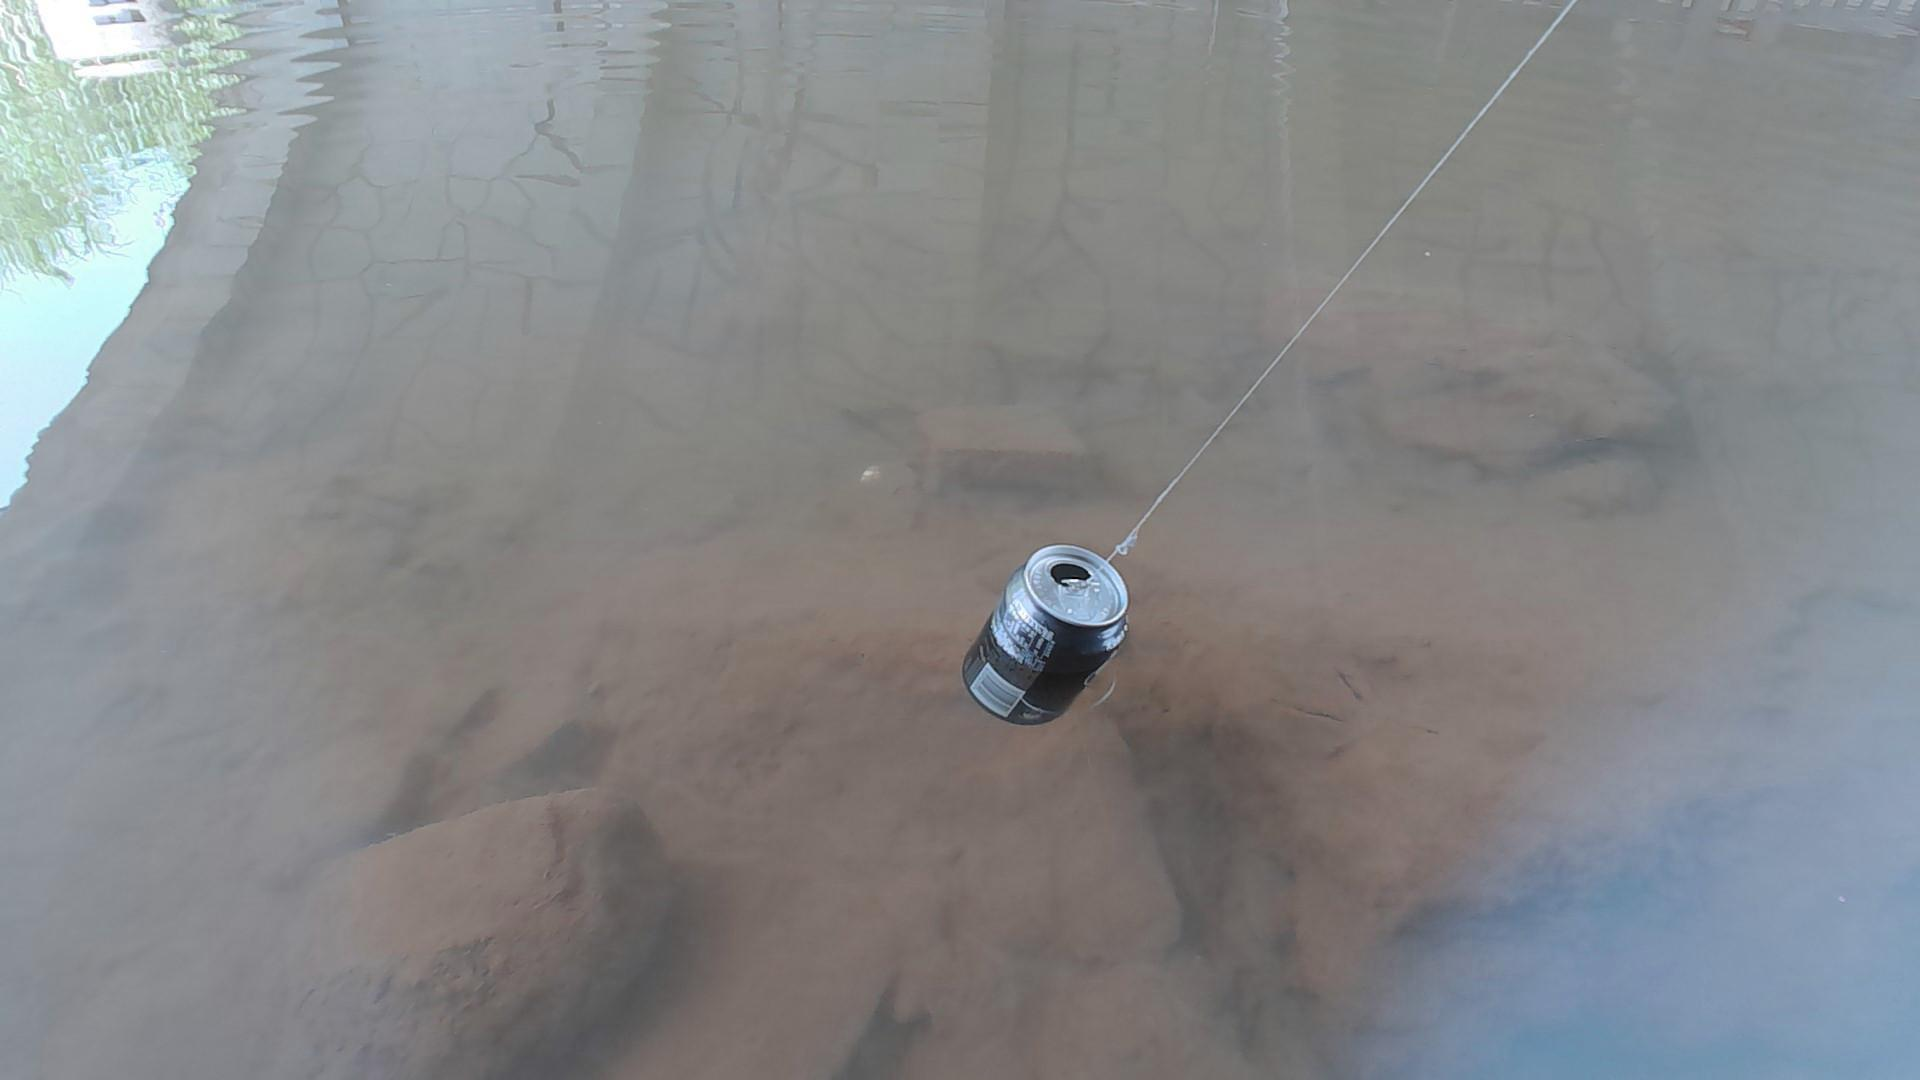Metal: (953, 533, 1133, 731)
